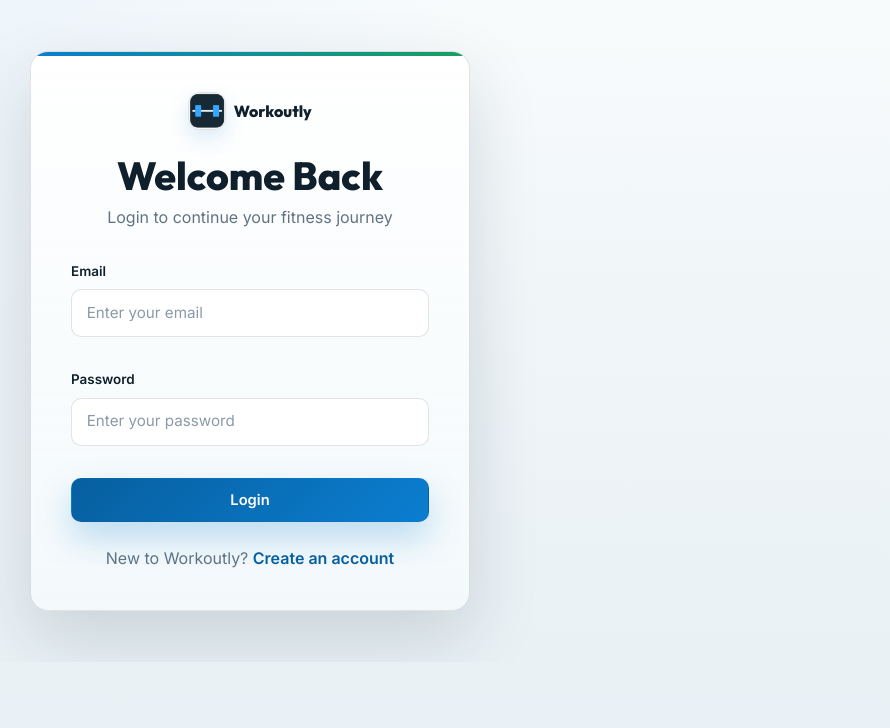
Login page interaction tests › shows validation errors and does not submit when fields are empty
Step 1. Click the button "Login" → {"x": 250, "y": 500}, box top-left (71, 478), bottom-right (429, 522)
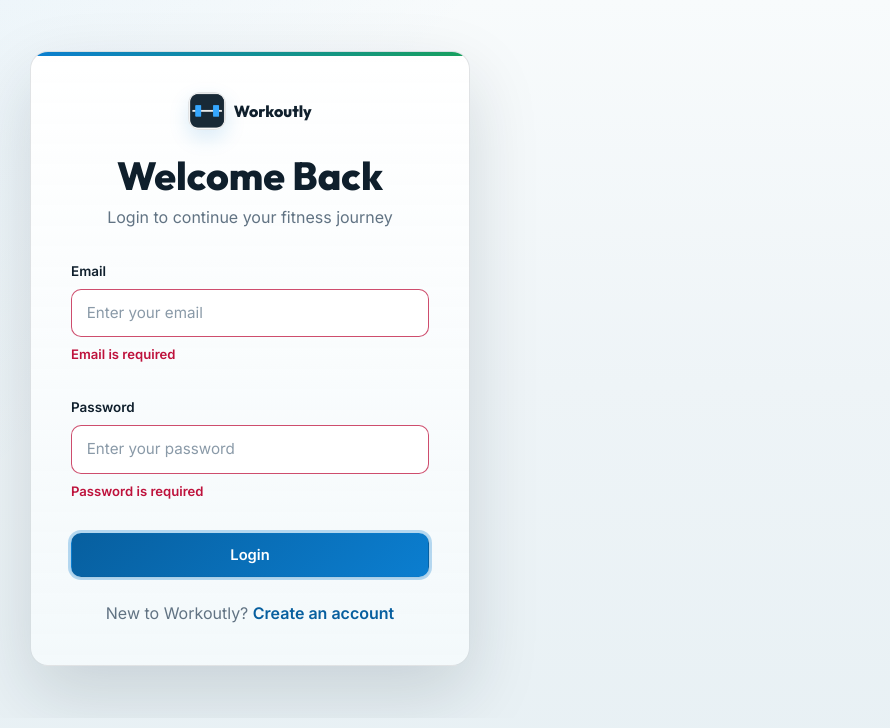
Result: the text "Email is required" is shown at top-left (71, 346), bottom-right (176, 362)
Result: the text "Password is required" is shown at top-left (71, 483), bottom-right (204, 499)
